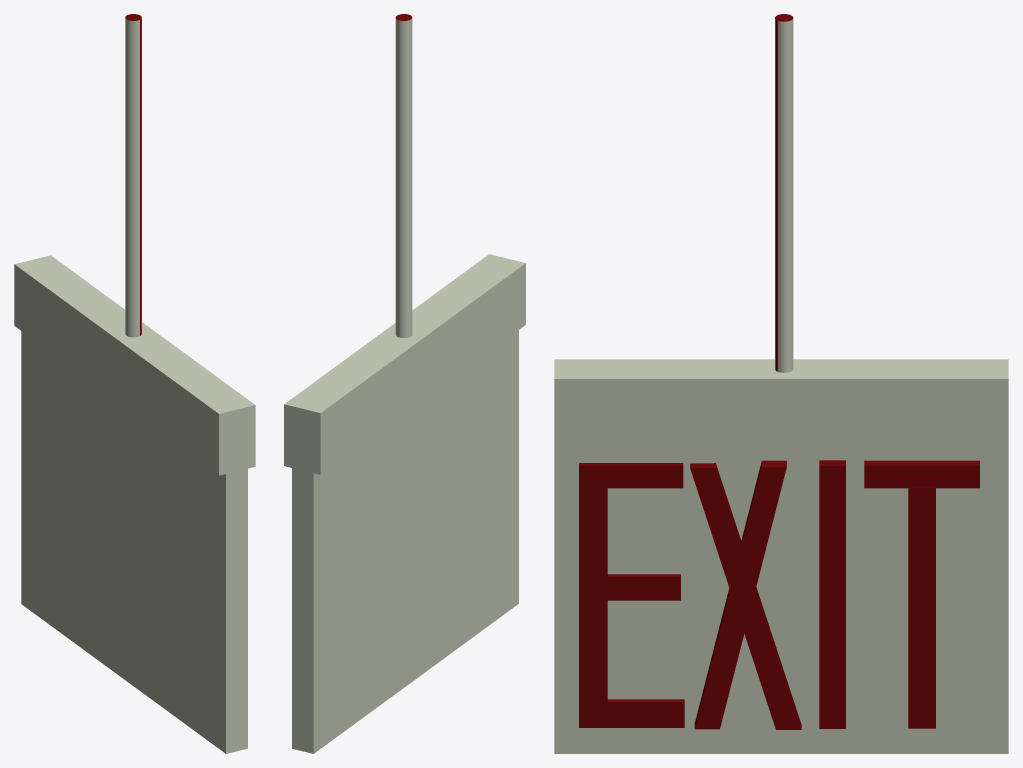
File: exitsign.fbx
3 renders of one model, left to right at view 1: azimuth 30°, elevation 25°; view 2: azimuth 150°, elevation 25°; view 3: azimuth 270°, elevation 25°, orthographic. The views are drawn at different scales.
Visible parts, largest first — view 1: Plane; view 2: Plane; view 3: Plane.
Part boxes in pixels (bbox=[...]): Plane: bbox=[14, 14, 255, 753]; Plane: bbox=[284, 14, 525, 753]; Plane: bbox=[554, 14, 1008, 753].
Bounding box in the file's own units: 21.94 × 340 × 192.
